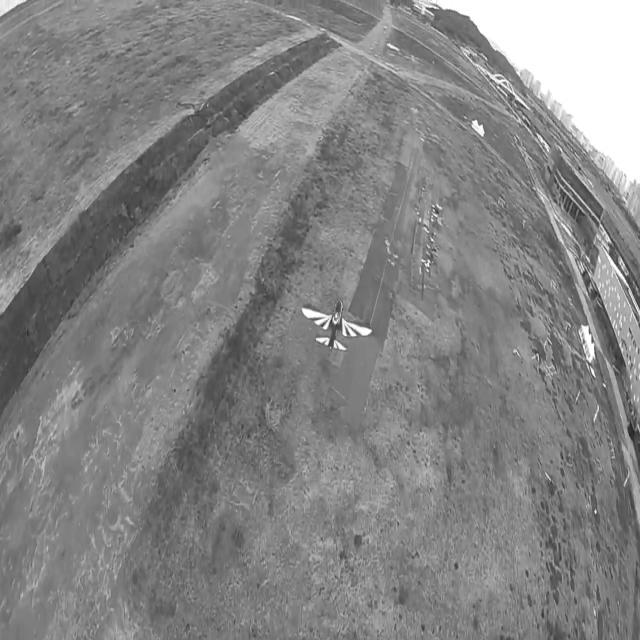iha: (335, 296, 339, 355)
